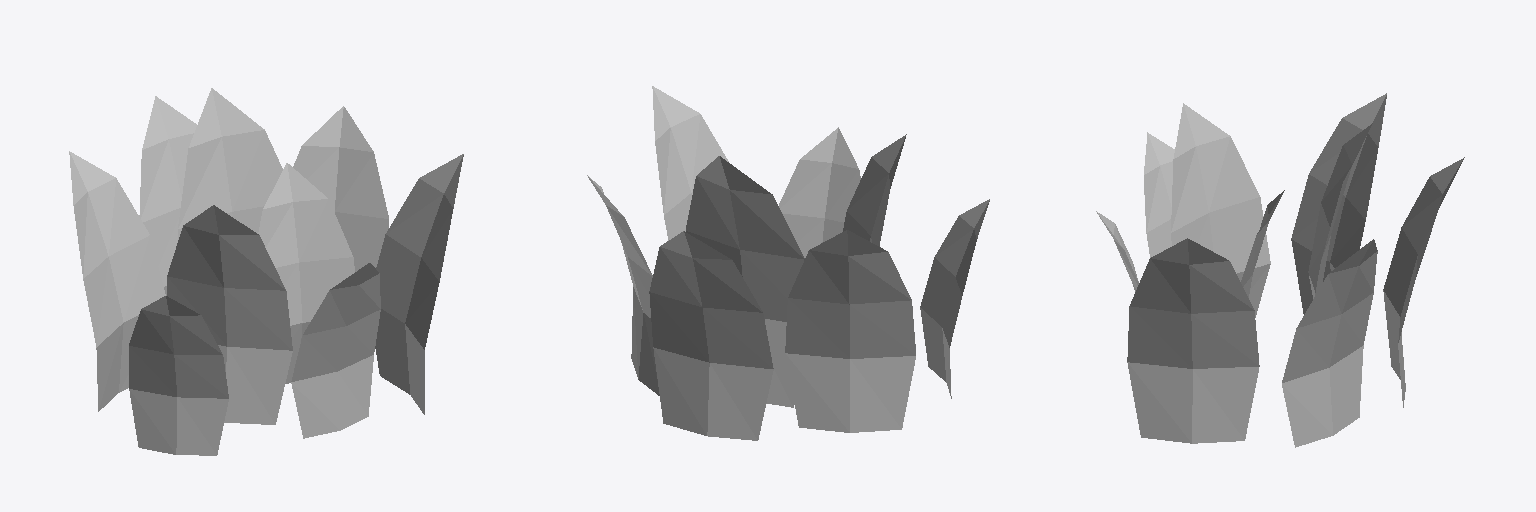
The model's file is Grass_1_C_Singlesided_Color1.obj.
The picture shows the model from 3 angles: view 1: azimuth 30°, elevation 25°; view 2: azimuth 150°, elevation 25°; view 3: azimuth 270°, elevation 25°; orthographic projection.
Parts seen in each view (by area): view 1: Grass_1_C_Singlesided_Color1; view 2: Grass_1_C_Singlesided_Color1; view 3: Grass_1_C_Singlesided_Color1.
Part boxes in pixels (x1,y1,x2,y2): Grass_1_C_Singlesided_Color1: (69, 88, 463, 455); Grass_1_C_Singlesided_Color1: (587, 86, 989, 440); Grass_1_C_Singlesided_Color1: (1096, 93, 1464, 447).
Bounding box in the file's own units: 0.7342 × 0.5803 × 0.725.